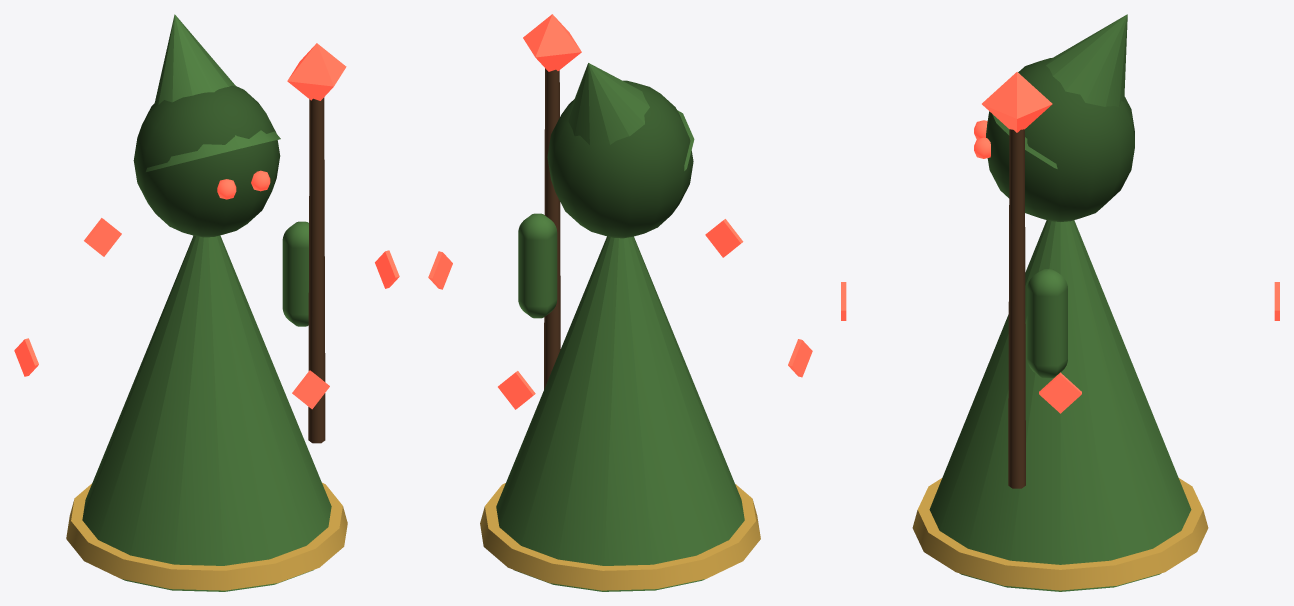
File: mob_mage.glb
3 renders of one model, left to right at view 1: azimuth 30°, elevation 25°; view 2: azimuth 150°, elevation 25°; view 3: azimuth 270°, elevation 25°, orthographic. The views are drawn at different scales.
Visible parts, largest first — view 1: mob_body__m0_ow100_, mob_body_dark50__m2_ow100_, m1_ow100_, m7_ow100_, mob_body__m3_ow100_, mob_body__m6_ow100_, mob_accent_glow__m8_gm160_, mob_accent_glow__m9_gm130_, mob_accent_glow__m11_gm130_, mob_accent_glow__m5_gm160_, mob_accent_glow__m10_gm130_, mob_accent_glow__m12_gm130_; view 2: mob_body__m0_ow100_, mob_body_dark50__m2_ow100_, m1_ow100_, mob_body__m3_ow100_, mob_body__m6_ow100_, m7_ow100_, mob_accent_glow__m8_gm160_, mob_accent_glow__m9_gm130_, mob_accent_glow__m11_gm130_, mob_accent_glow__m12_gm130_, mob_accent_glow__m10_gm130_; view 3: mob_body__m0_ow100_, mob_body_dark50__m2_ow100_, m1_ow100_, m7_ow100_, mob_body__m3_ow100_, mob_body__m6_ow100_, mob_accent_glow__m8_gm160_, mob_accent_glow__m10_gm130_.
Part boxes in pixels (x1,y1,x2,y2): mob_body__m0_ow100_: (82, 235, 331, 591); mob_body_dark50__m2_ow100_: (133, 85, 280, 237); m1_ow100_: (66, 482, 347, 590); m7_ow100_: (308, 97, 325, 443); mob_body__m3_ow100_: (146, 14, 280, 171); mob_body__m6_ow100_: (282, 221, 308, 326); mob_accent_glow__m8_gm160_: (287, 43, 346, 100); mob_accent_glow__m9_gm130_: (292, 370, 329, 409); mob_accent_glow__m11_gm130_: (84, 218, 121, 256); mob_accent_glow__m5_gm160_: (217, 170, 270, 199); mob_accent_glow__m10_gm130_: (375, 250, 399, 288); mob_accent_glow__m12_gm130_: (14, 338, 38, 376); mob_body__m0_ow100_: (496, 236, 744, 591); mob_body_dark50__m2_ow100_: (547, 80, 693, 238); m1_ow100_: (480, 483, 760, 590); mob_body__m3_ow100_: (568, 63, 694, 170); mob_body__m6_ow100_: (518, 213, 557, 318); m7_ow100_: (544, 68, 560, 389); mob_accent_glow__m8_gm160_: (523, 14, 581, 71); mob_accent_glow__m9_gm130_: (705, 219, 743, 257); mob_accent_glow__m11_gm130_: (498, 371, 535, 409); mob_accent_glow__m12_gm130_: (788, 339, 812, 377); mob_accent_glow__m10_gm130_: (428, 251, 452, 289); mob_body__m0_ow100_: (929, 220, 1191, 591); mob_body_dark50__m2_ow100_: (986, 58, 1134, 221); m1_ow100_: (912, 478, 1208, 590); m7_ow100_: (1008, 129, 1025, 488); mob_body__m3_ow100_: (992, 14, 1127, 168); mob_body__m6_ow100_: (1027, 269, 1067, 378); mob_accent_glow__m8_gm160_: (982, 72, 1052, 132); mob_accent_glow__m10_gm130_: (1039, 372, 1081, 413).
Size of the model in its own units: 1.72 by 2.24 by 1.72.
